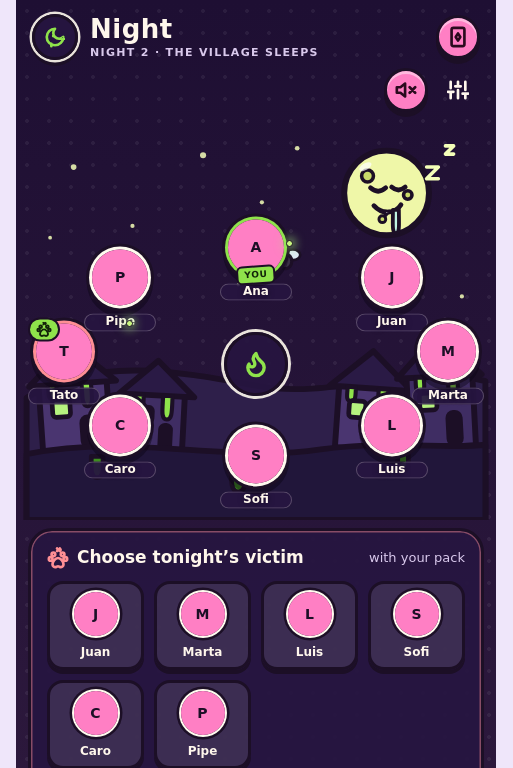
Test: wolf dock › shows the failure of an action
Click the button "M Marta": (202, 626) [154, 581, 251, 670]
(page scrolled)
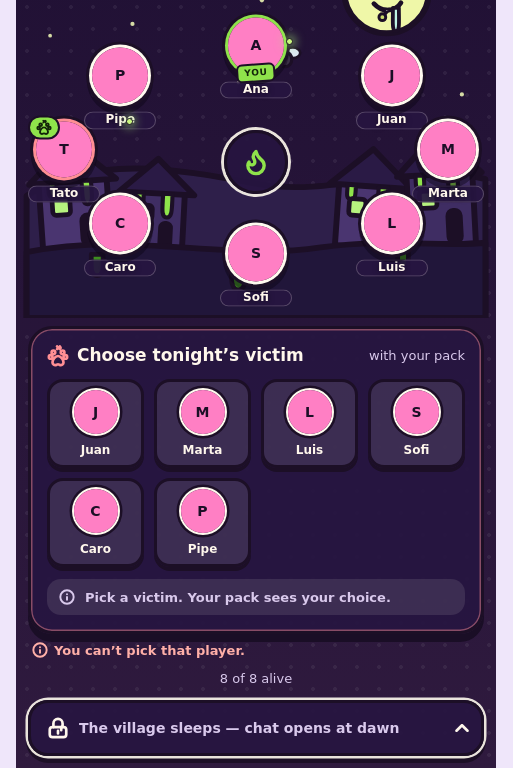
Now the message with class "err" reads "You can’t pick that player.", box [54, 642, 245, 658]
